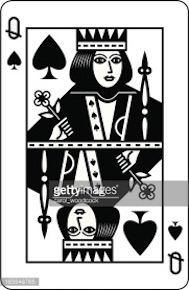QueenOfSpades: (1, 1, 189, 286)
